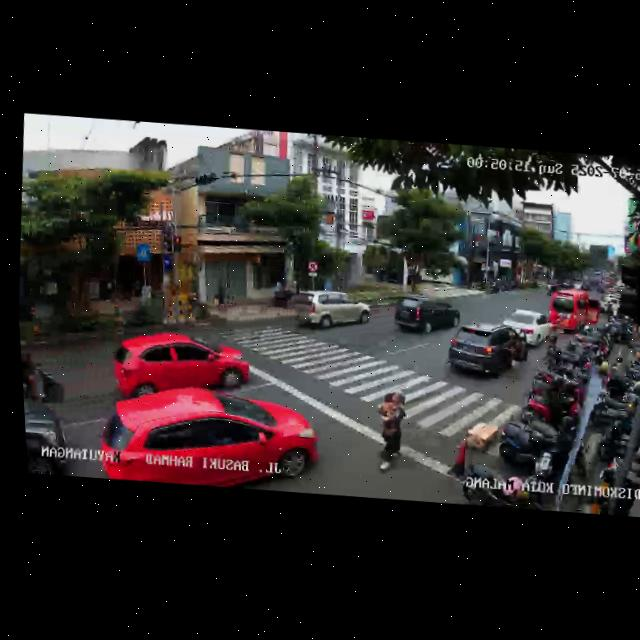car: (94, 376, 326, 497), (109, 325, 253, 409), (443, 316, 533, 384), (23, 392, 74, 476), (292, 286, 373, 336), (389, 291, 461, 340), (545, 286, 603, 334), (500, 306, 555, 348)
motorcycle: (21, 348, 69, 401)
person: (370, 388, 412, 474)
